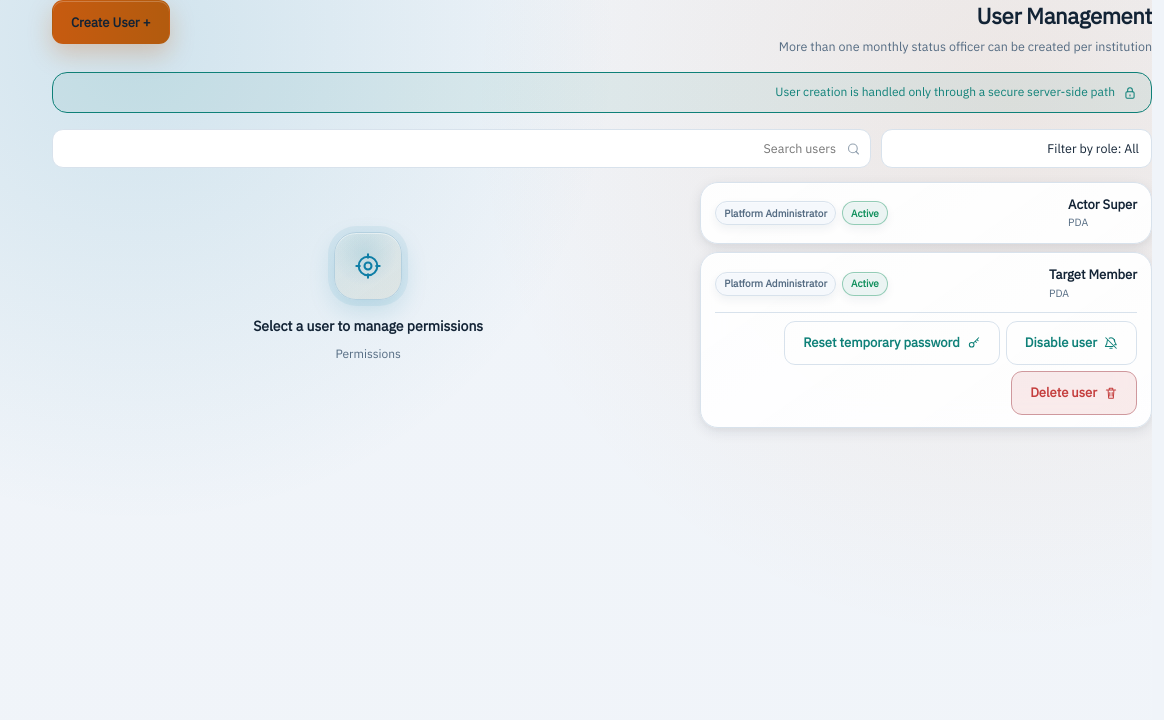
Test: P1 — the matrix saves the explicit choice and it survives reload and reopen › saving with nothing changed sends no RPC
Step 1. Click the text "Target Member" → coordinates (1093, 276), box x1=1049 y1=266 x2=1137 y2=286
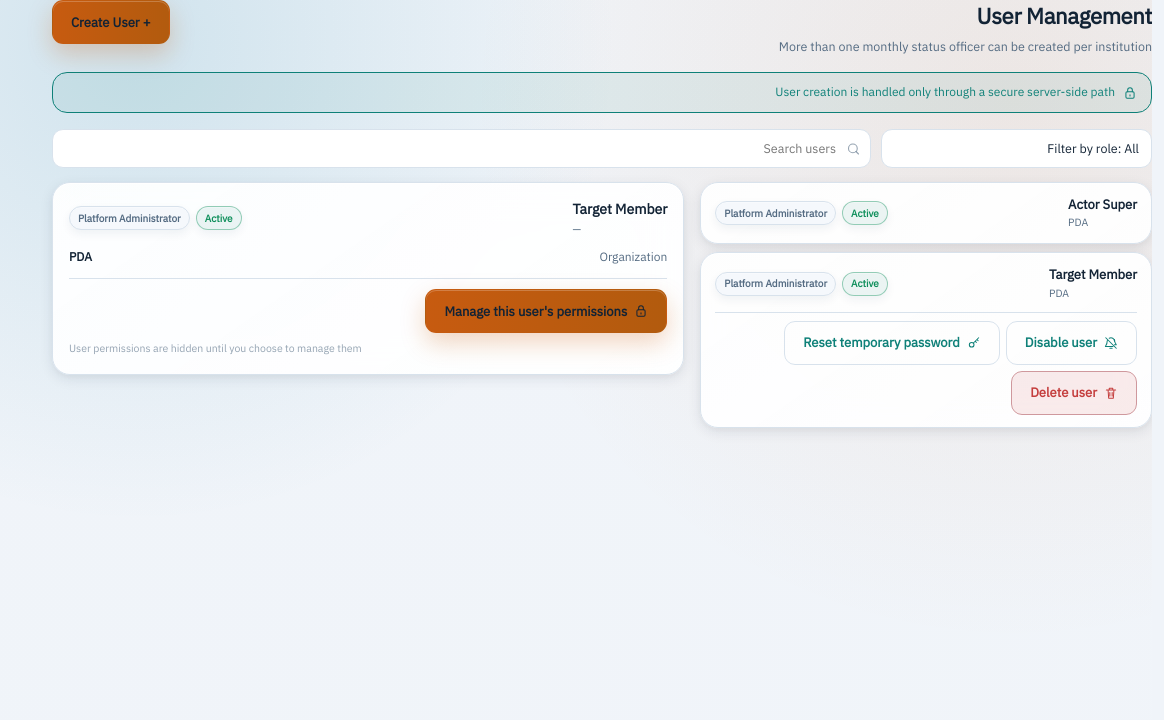
Step 2. Click the button "Manage this user's permissions" → coordinates (546, 311), box x1=426 y1=289 x2=667 y2=333
(page scrolled)
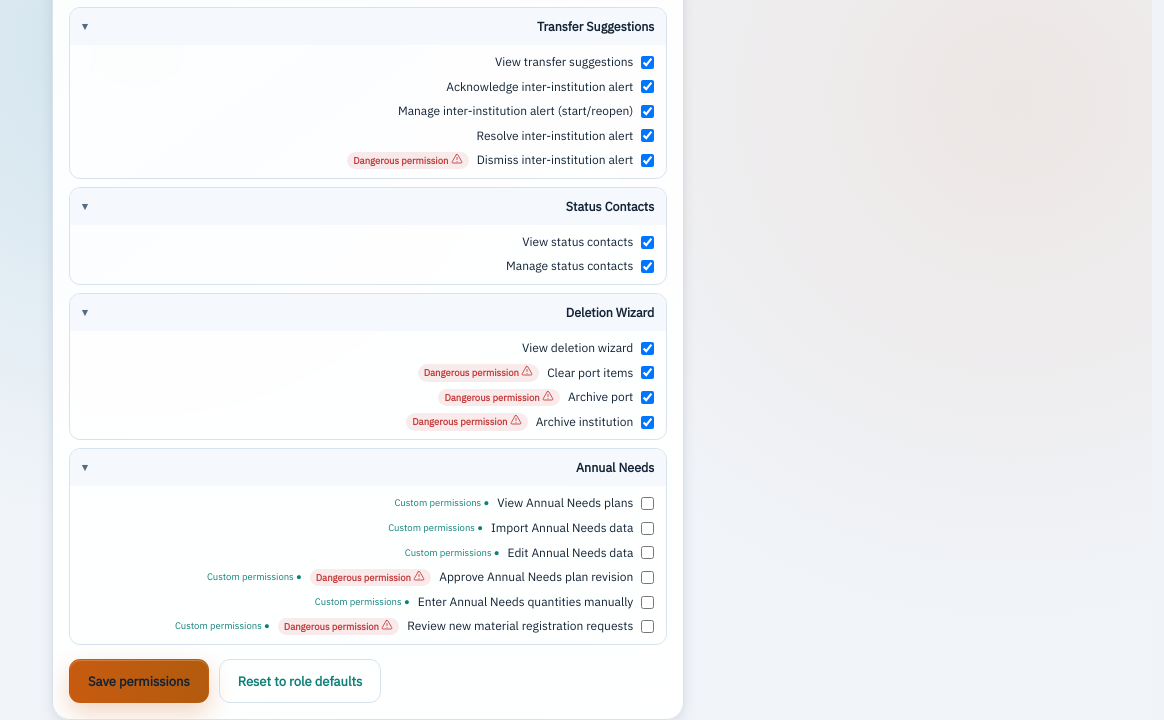
Now the text "View Annual Needs plans" is shown, box x1=497 y1=494 x2=633 y2=513
Step 3. Click the button "Save permissions" → coordinates (139, 681), box x1=69 y1=659 x2=209 y2=703
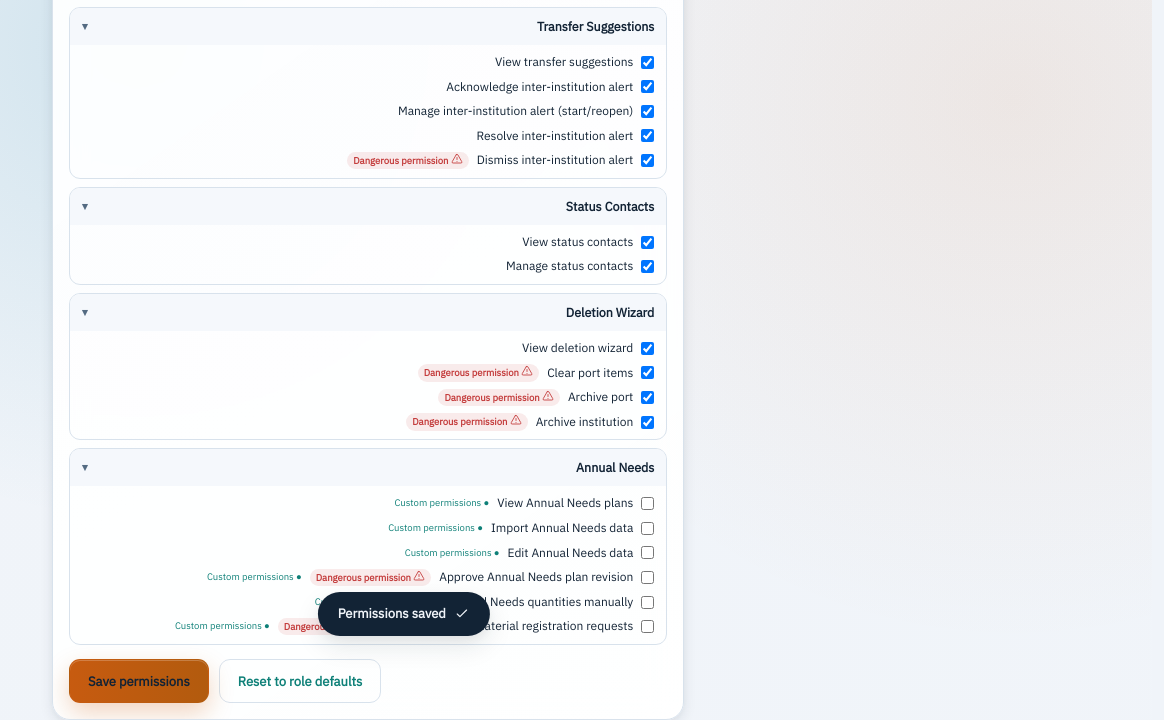
Now the text "Permissions saved" is shown, box x1=338 y1=604 x2=446 y2=624
